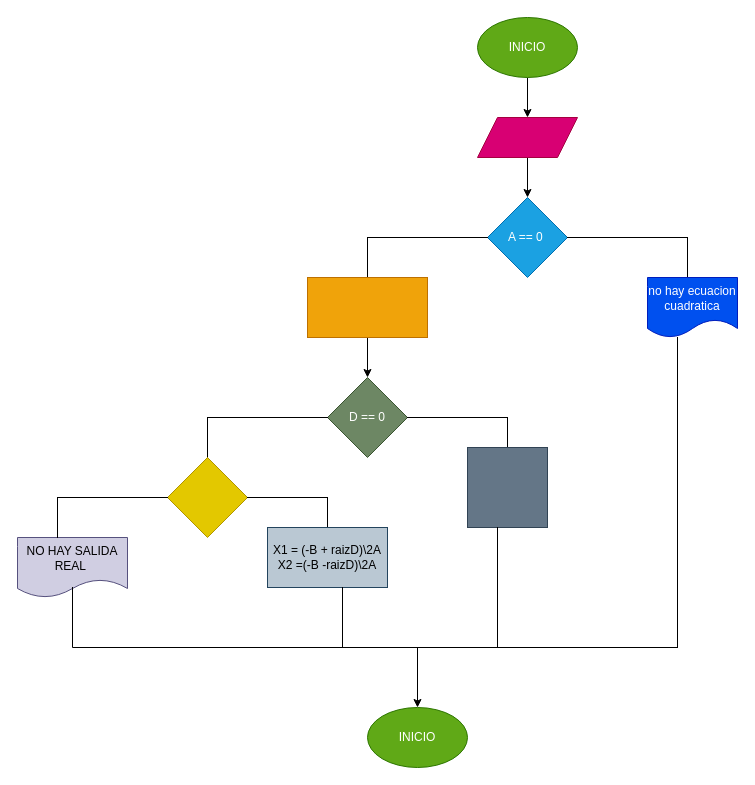
Some shapes in this 755 by 785 pixel diagram are drawn without their labels. Each missing label, with the centre of its shape:
"A , B , C" goes at pixel 527 137.
"D = B2 - 4AC" goes at pixel 367 307.
"D > 0" goes at pixel 207 497.
"X1 = -B \2A X2 = X1" goes at pixel 507 487.
